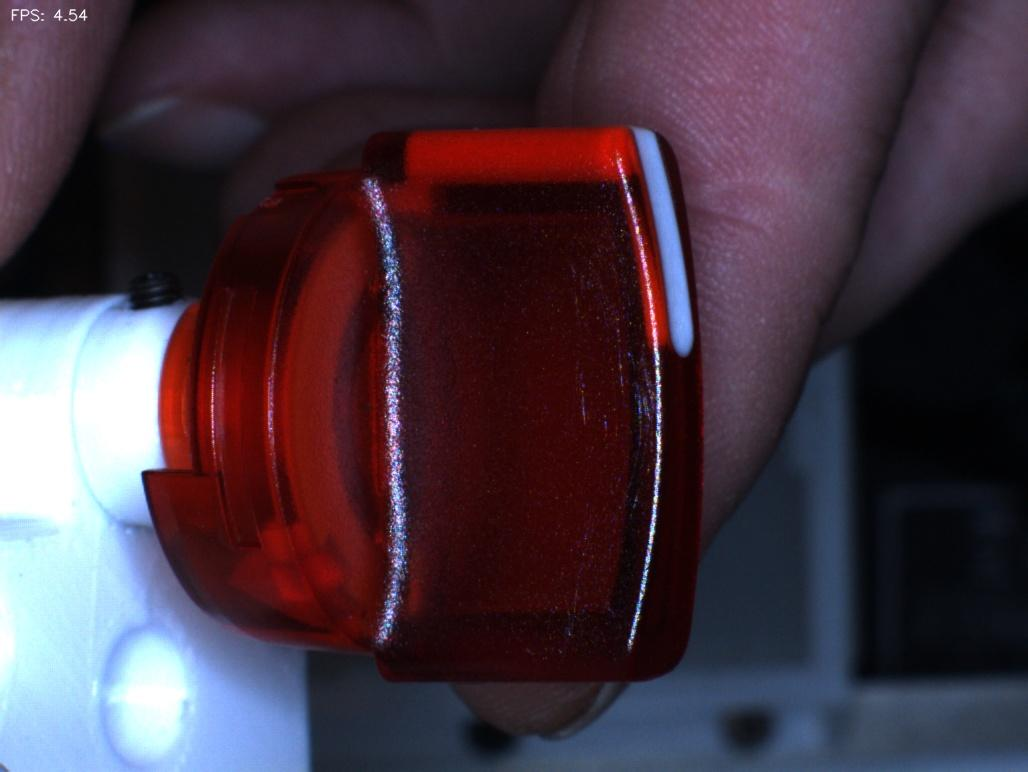Givrage: (572, 293, 669, 507)
